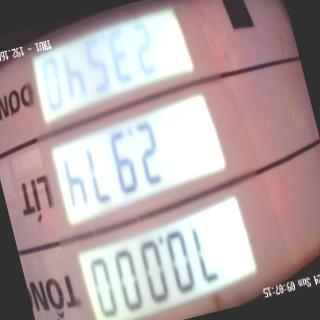screen: (6, 0, 271, 320)
